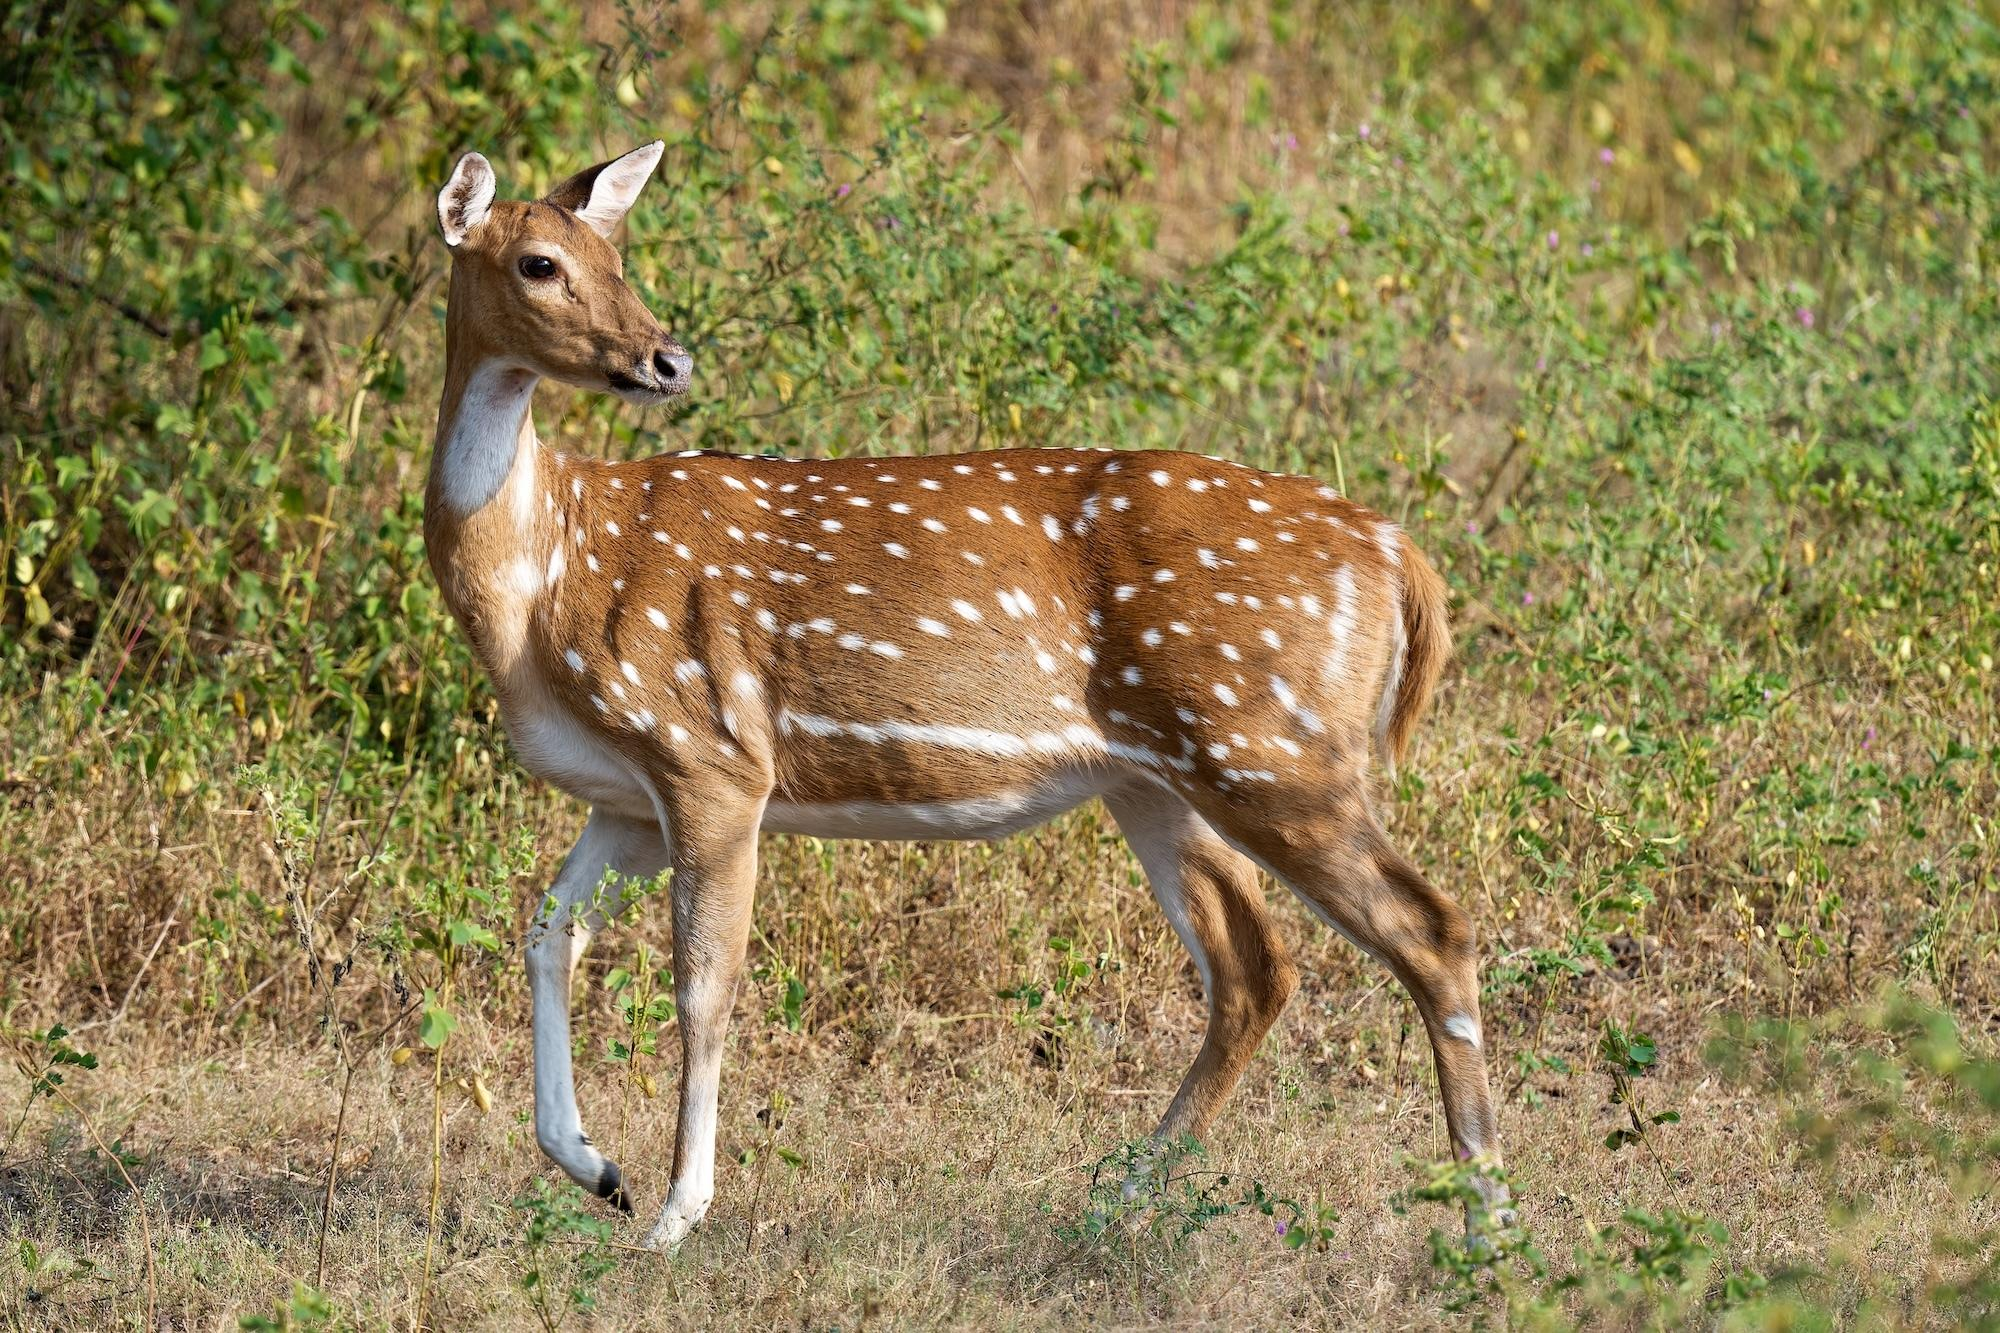Deer: (422, 141, 1496, 1244)
